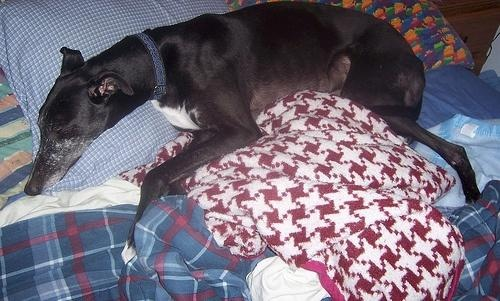dog: (24, 2, 484, 268)
